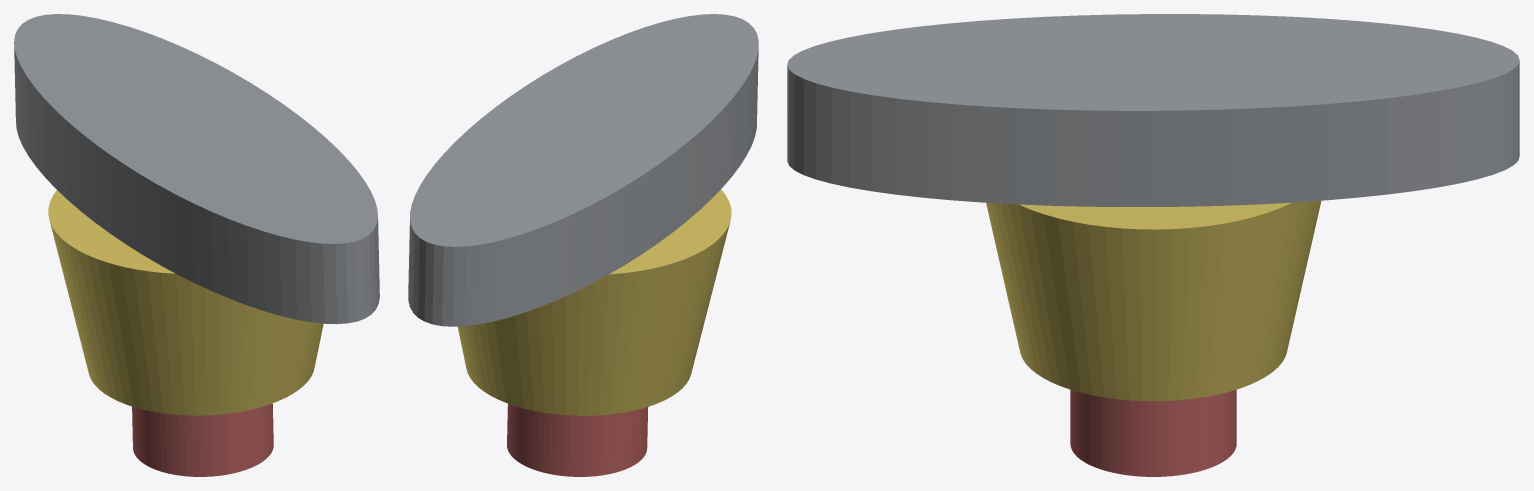
The model's file is reference-candidate.glb.
3 views of the same model, side by side, from view 1: azimuth 30°, elevation 25°; view 2: azimuth 150°, elevation 25°; view 3: azimuth 270°, elevation 25° (orthographic). The views are drawn at different scales.
Visible parts, largest first — view 1: gray-housing, yellow-body, red-actuator; view 2: gray-housing, yellow-body, red-actuator; view 3: gray-housing, yellow-body, red-actuator.
Part boxes in pixels (x1=…): gray-housing: x1=14, y1=14, x2=379, y2=323; yellow-body: x1=48, y1=190, x2=323, y2=415; red-actuator: x1=132, y1=403, x2=273, y2=476; gray-housing: x1=408, y1=14, x2=758, y2=326; yellow-body: x1=457, y1=189, x2=731, y2=415; red-actuator: x1=507, y1=403, x2=648, y2=476; gray-housing: x1=787, y1=14, x2=1519, y2=206; yellow-body: x1=986, y1=200, x2=1321, y2=401; red-actuator: x1=1070, y1=389, x2=1236, y2=476.
Bounding box in the file's own units: 0.1304 × 0.1553 × 0.2703.
